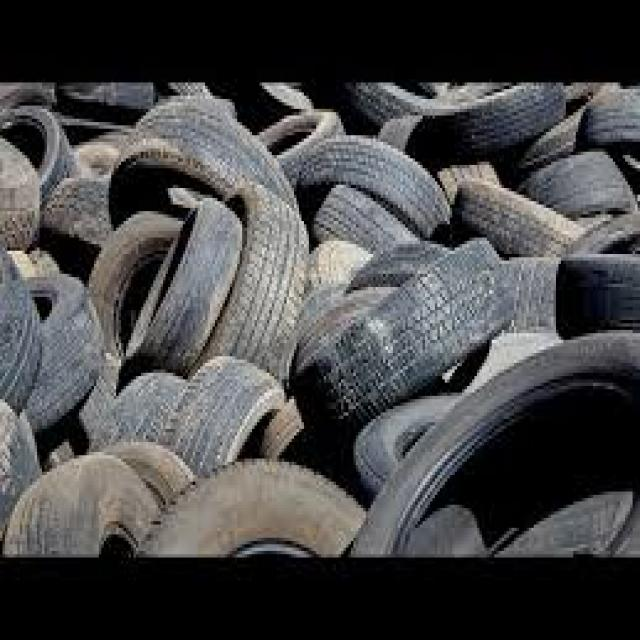Rubber -Non-Biodegradable but Recyclable-: (0, 79, 640, 574)
